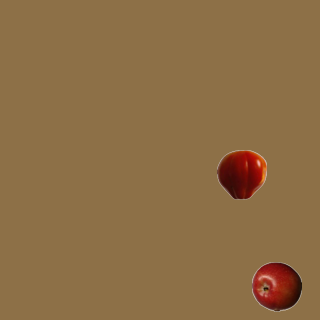Apple Braeburn: (251, 261, 301, 311)
Tomato 1: (216, 149, 266, 199)
